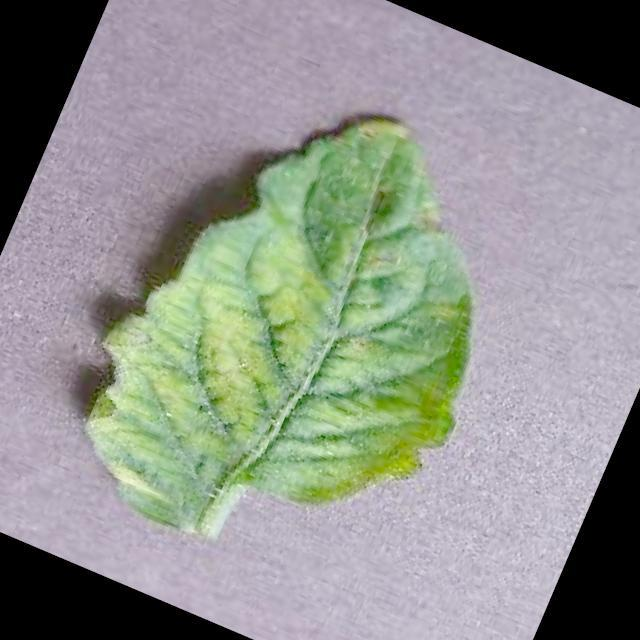Tomato mosaic virus leaf: (39, 41, 566, 618)
